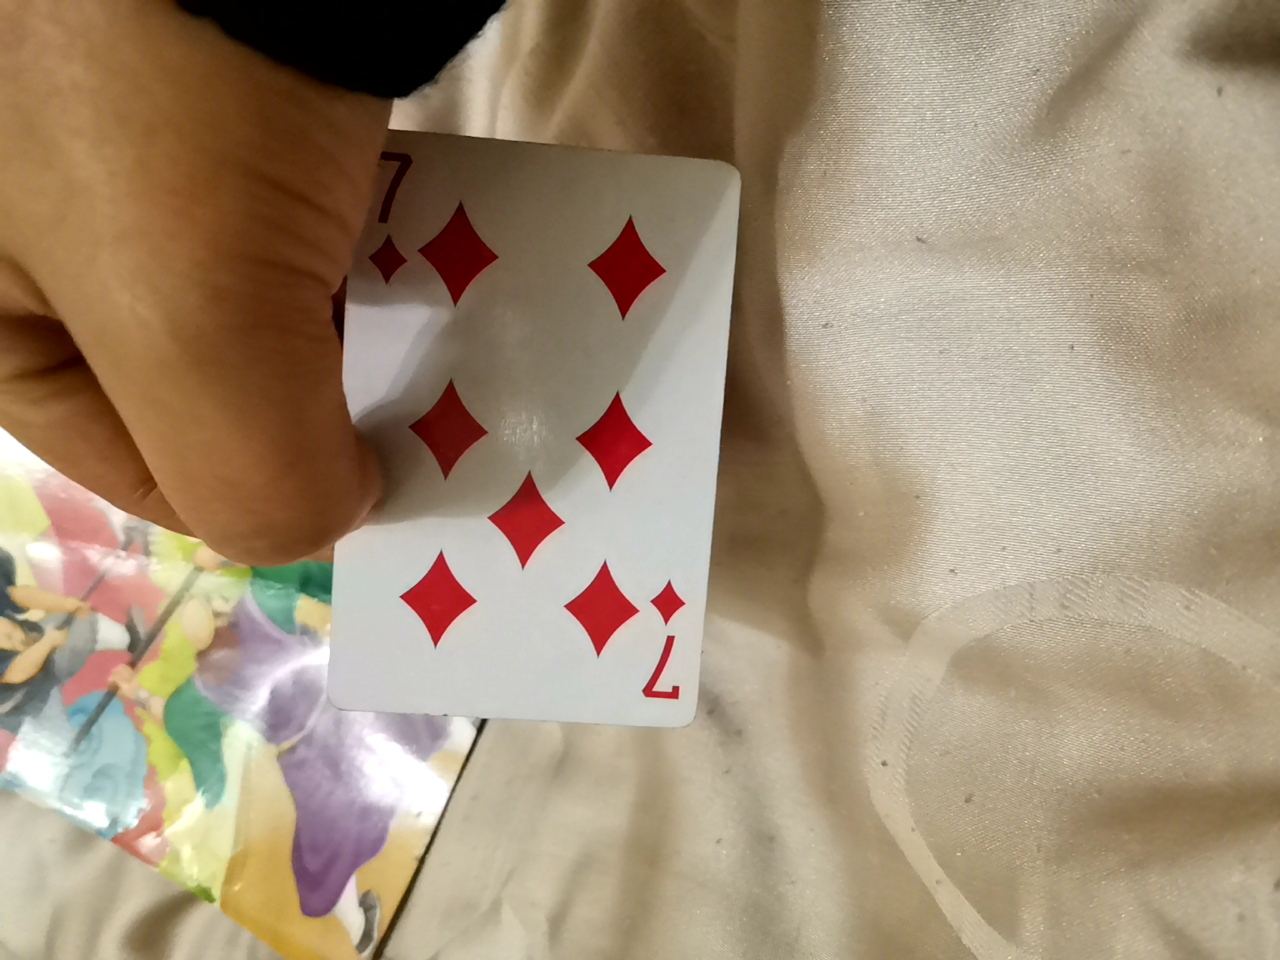fk 7: (311, 125, 728, 755)
